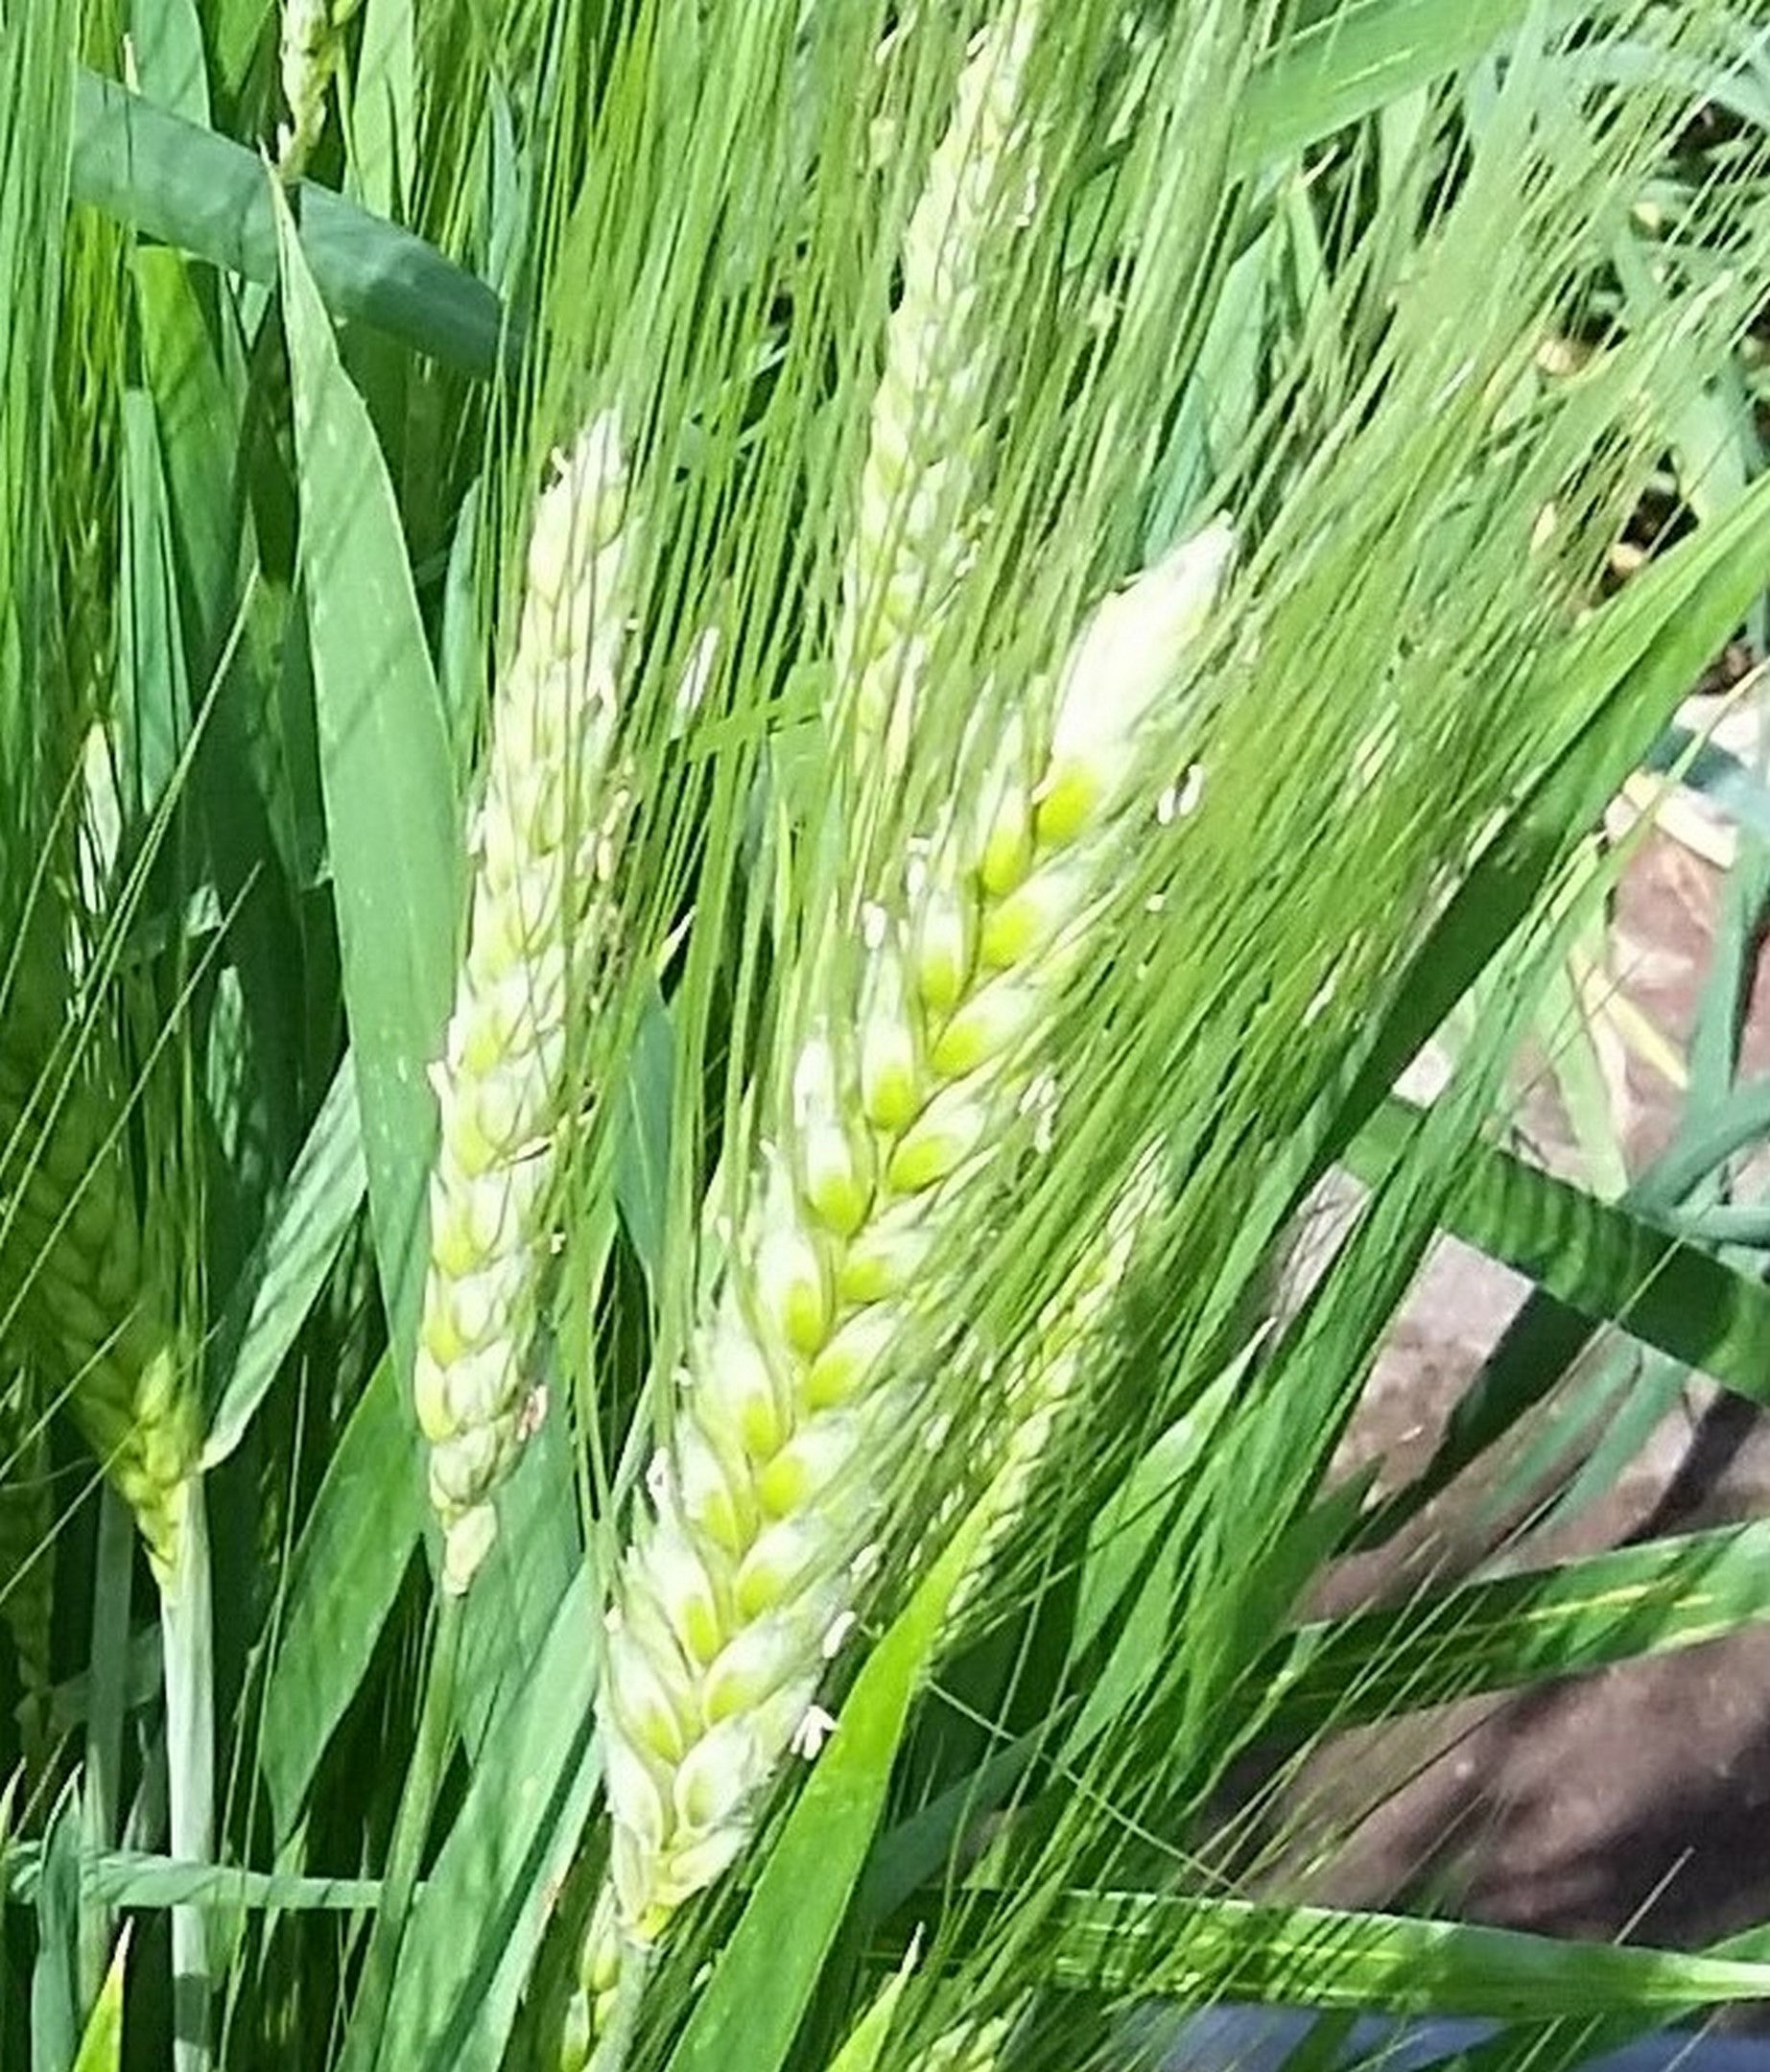Healthy Wheat: (613, 623, 1206, 1888)
